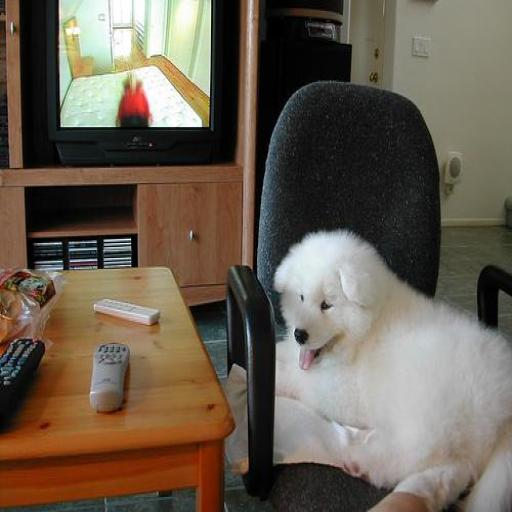dog_face: (272, 225, 376, 373)
